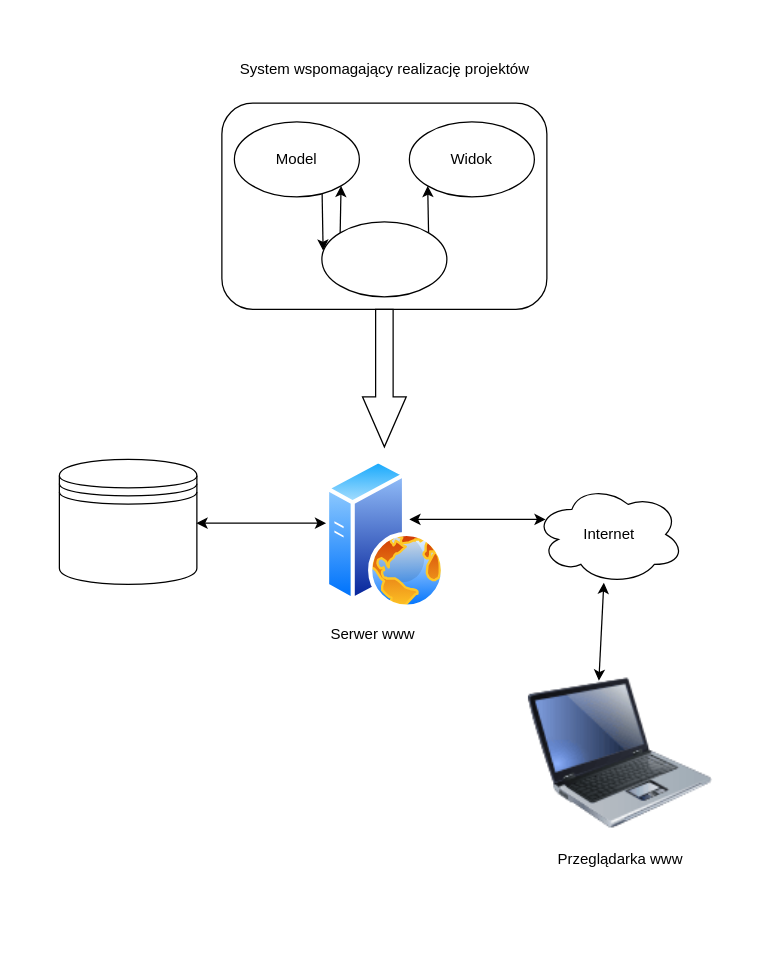
Image size: 780x955. Some labels were removed from this diagram. Here are the shapes that lost their labels. From the top down, the centre of each, then its label:
At point (384, 259): "Kontroler".
At point (127, 521): "Serwer bazodanowy".
